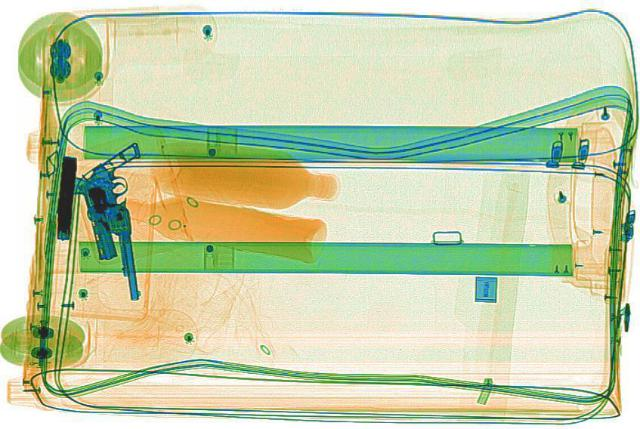Gun: (64, 142, 154, 257), (85, 194, 159, 303), (46, 150, 90, 249)
